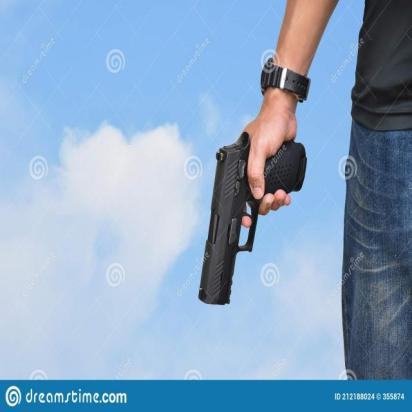Gun: (186, 123, 312, 315)
